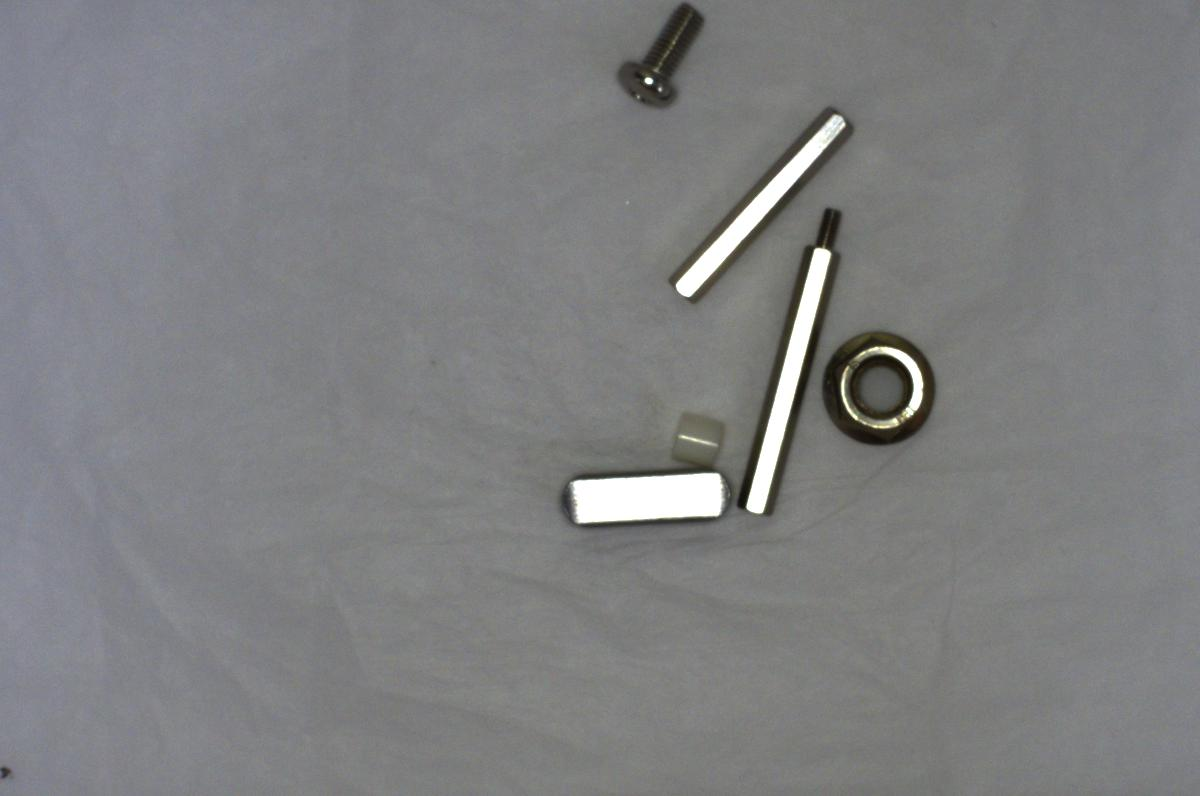Double hexagonal column: (669, 100, 856, 310)
Flange nut: (816, 322, 939, 455)
Hexagonal steel column: (744, 205, 842, 524)
Keybar: (550, 454, 735, 544)
Plastic cushion pillar: (657, 401, 729, 471)
Round head screw: (603, 5, 723, 105)
